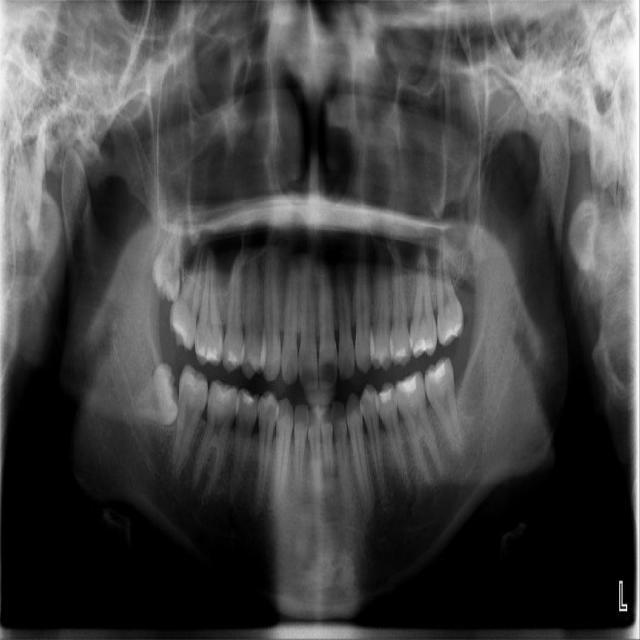3M ESPE Implant: (149, 198, 188, 302)
52: (427, 299, 478, 351), (412, 352, 461, 401), (386, 368, 432, 411), (168, 299, 198, 351), (194, 323, 225, 369), (407, 321, 441, 360), (221, 333, 247, 377), (388, 331, 414, 370), (374, 382, 400, 417), (235, 386, 261, 420)
73: (624, 625, 632, 631)
BioHorizons Implant: (433, 228, 465, 350)
Blue Sky Bio Implant: (419, 356, 472, 464)
Caries: (166, 232, 208, 353)
Implant: (170, 361, 211, 481)
Keystone Dental Implant: (128, 357, 196, 434)
